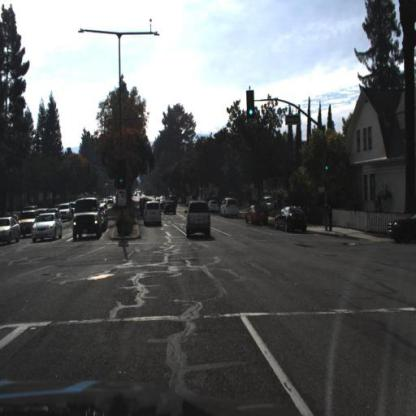car: (72, 196, 104, 244), (184, 198, 214, 242), (30, 211, 65, 243), (275, 206, 310, 235), (33, 212, 63, 242), (144, 194, 166, 230), (1, 217, 22, 247), (17, 210, 40, 237), (220, 197, 243, 220), (246, 207, 270, 228), (17, 211, 35, 235), (220, 198, 240, 219), (164, 199, 178, 220), (58, 204, 73, 220), (208, 200, 218, 213), (169, 192, 179, 204), (157, 197, 168, 206)
pedestrian: (326, 200, 334, 231)
trafficLight-Green: (247, 91, 256, 121), (247, 92, 256, 121), (324, 152, 332, 174)
trafficLight-GreenLeft: (118, 161, 127, 191)
trafficLight-RedLeft: (117, 165, 127, 190)
truck: (71, 196, 103, 243)
